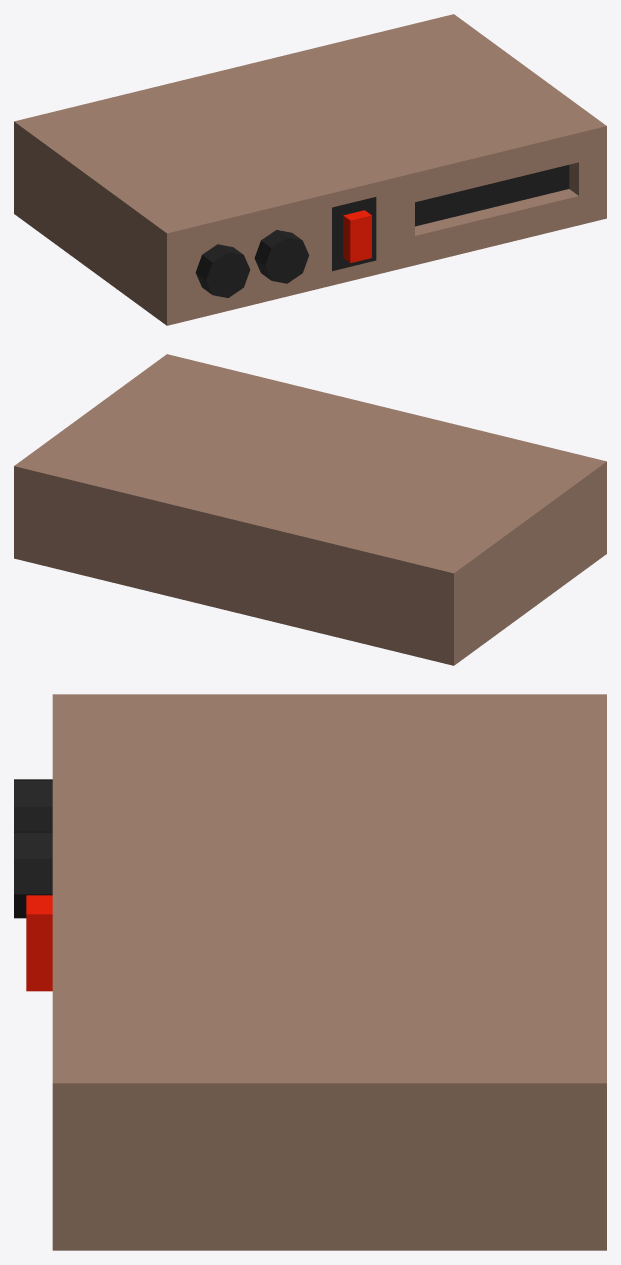
File: VHSPlayer2.fbx
The picture shows the model from 3 angles, top to bottom: view 1: azimuth 30°, elevation 25°; view 2: azimuth 150°, elevation 25°; view 3: azimuth 270°, elevation 25°; orthographic projection. The views are drawn at different scales.
Parts seen in each view (by area): view 1: VHSPlayer2; view 2: VHSPlayer2; view 3: VHSPlayer2.
Part boxes in pixels (box(x1,y1,x2,y2)): VHSPlayer2: box(14, 14, 606, 325); VHSPlayer2: box(14, 354, 606, 665); VHSPlayer2: box(14, 694, 606, 1250).
Bounding box in the file's own units: 59.76 × 12 × 38.5.
